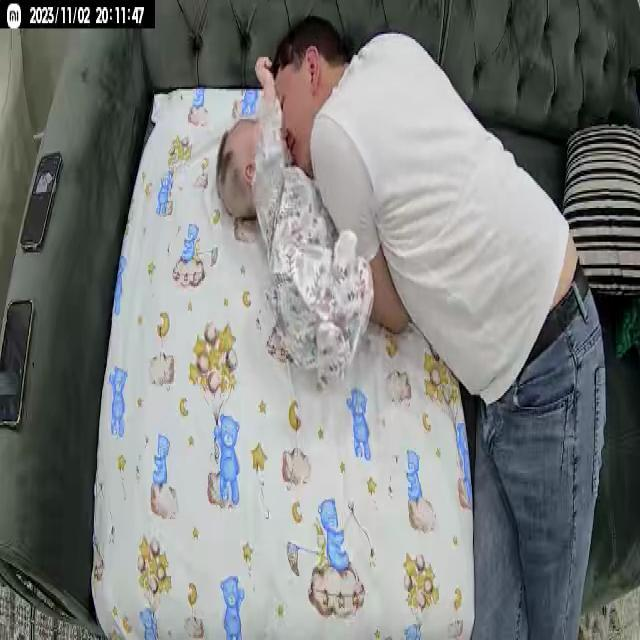baby: (215, 50, 376, 400)
